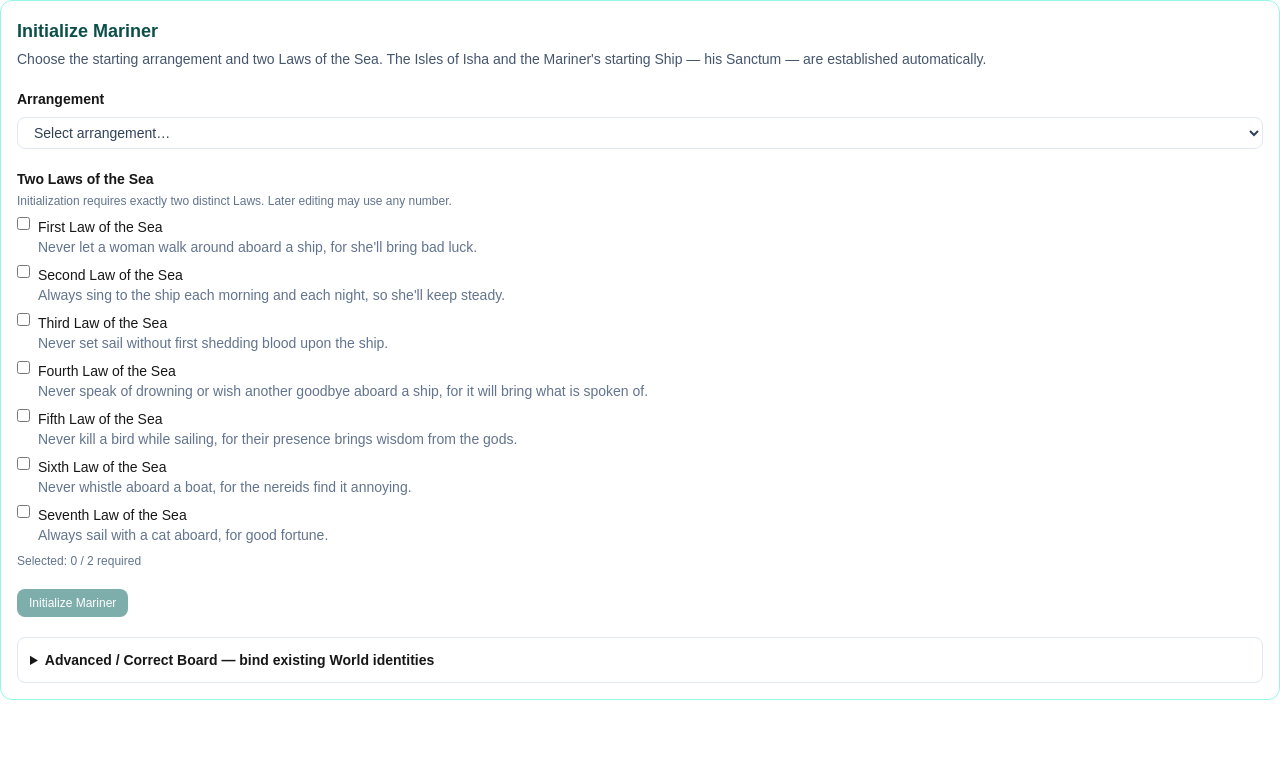
Test case: Mariner surface setup › exposes starting Beast for Dynamic and Rarity for Explosive
This screenshot has width=1280, height=782.
Later steps or results of the test are not shown.
Select "Dynamic Arrangement" in the dropdown named "Arrangement": (640, 133) [17,117,1263,149]
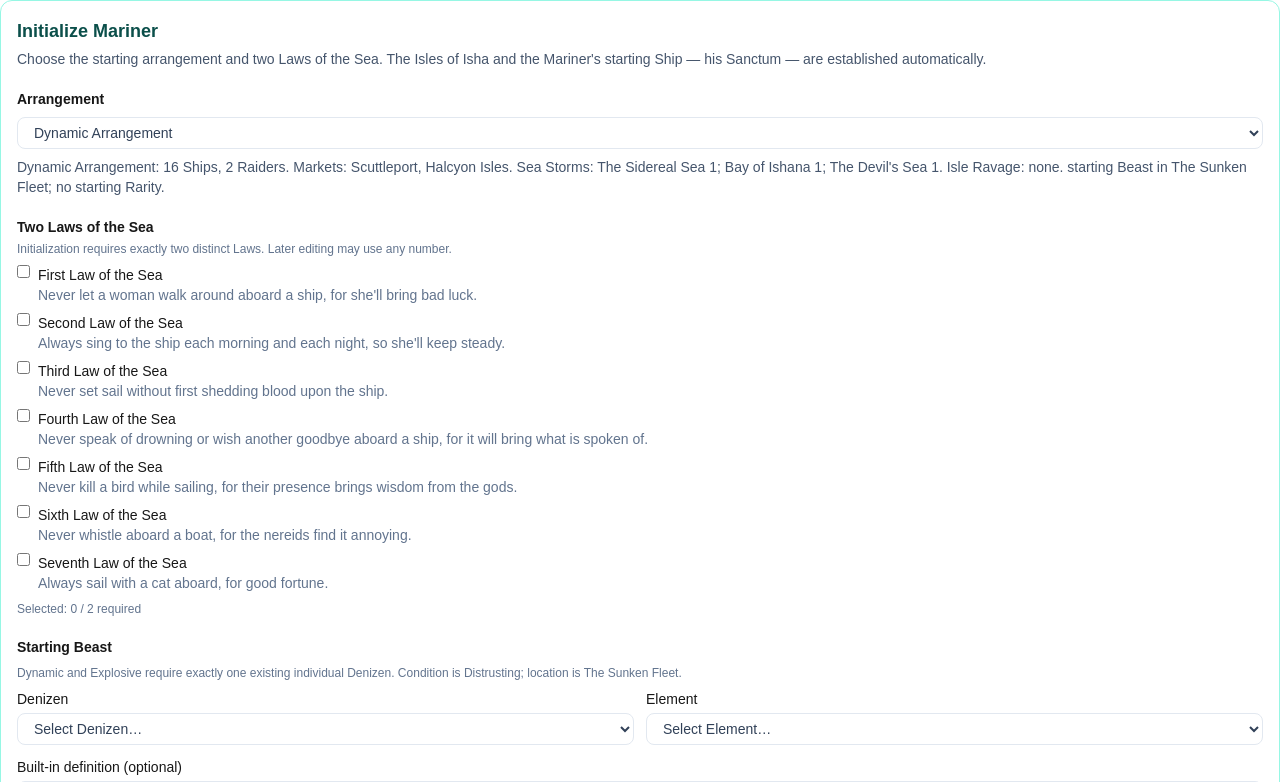
Expected: the text "Starting Beast" is shown, [17,159,1247,195]
Expected: the text "The Sunken Fleet" is shown, [17,159,1247,195]
